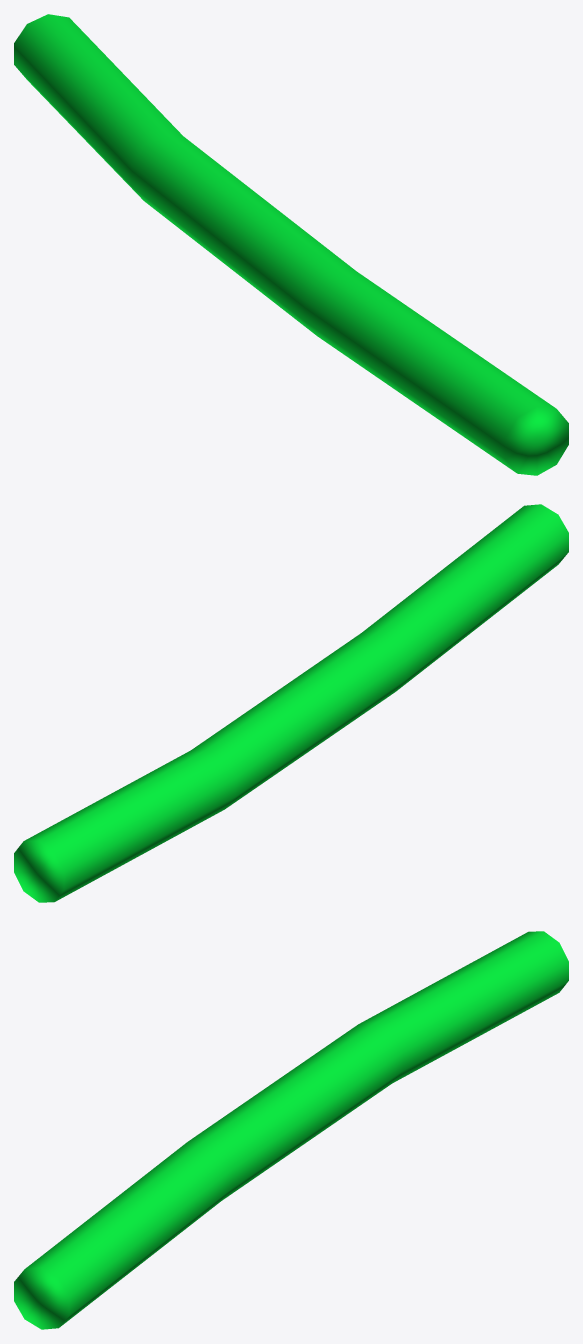
File: Pipe_Turn_C_Ext.fbx
The picture shows the model from 3 angles, top to bottom: view 1: azimuth 30°, elevation 25°; view 2: azimuth 150°, elevation 25°; view 3: azimuth 330°, elevation 25°; orthographic projection. The views are drawn at different scales.
Parts seen in each view (by area): view 1: Pipe_Turn_C_Ext; view 2: Pipe_Turn_C_Ext; view 3: Pipe_Turn_C_Ext.
Boxes of the visible parts, box(x1,y1,x2,y2) form: Pipe_Turn_C_Ext: box(14, 14, 568, 475); Pipe_Turn_C_Ext: box(14, 504, 568, 902); Pipe_Turn_C_Ext: box(14, 931, 568, 1329).
Size of the model in its own units: 0.3643 by 0.2243 by 3.11.
